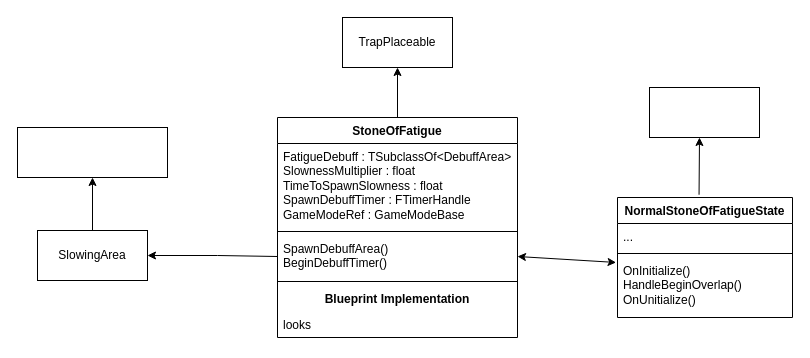
This 810x358 diagram has some shape labels left out. Here are the shapes that lost their labels. From the top down, the centre of each, then its label:
At point (704, 112): "TrapStateInterface".
At point (92, 152): "TimeBasedDebuffArea".
